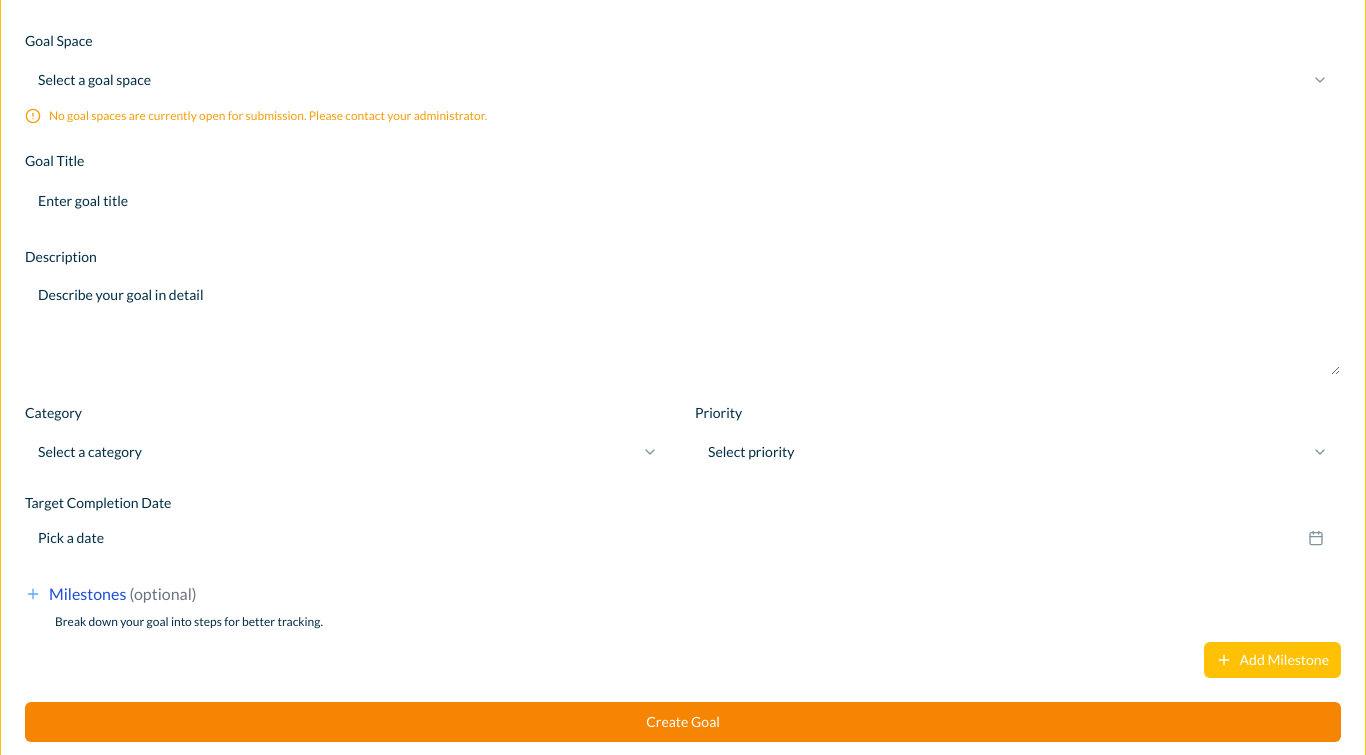
it: GoalFormComponent › validates required fields
(page scrolled)
Note: Submit without filling required fields
Click the button "Create Goal" at (683, 722), box [25,702,1341,742]
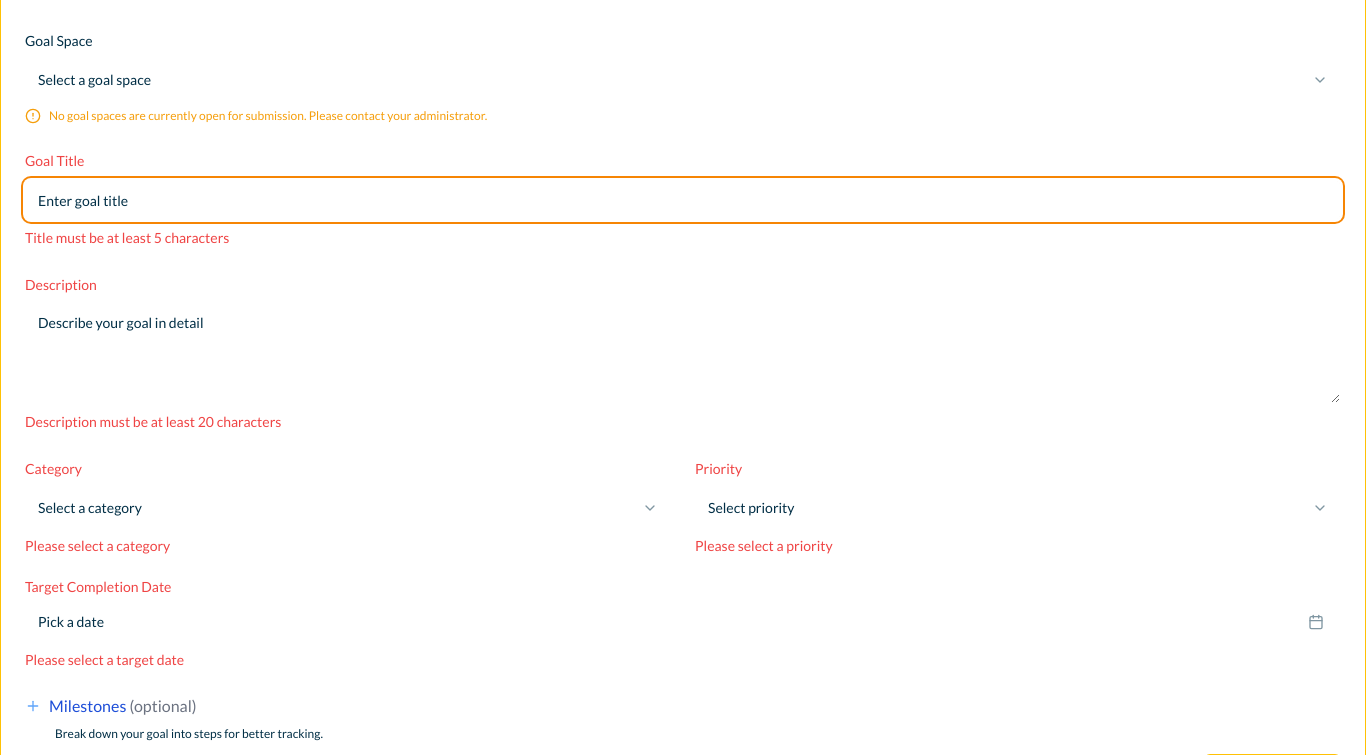
Expected: the text "Title must be at least 5 characters" is shown, [25,229,229,246]
Expected: the text "Description must be at least 20 characters" is shown, [25,413,281,430]
Expected: the text "Please select a category" is shown, [25,537,170,554]
